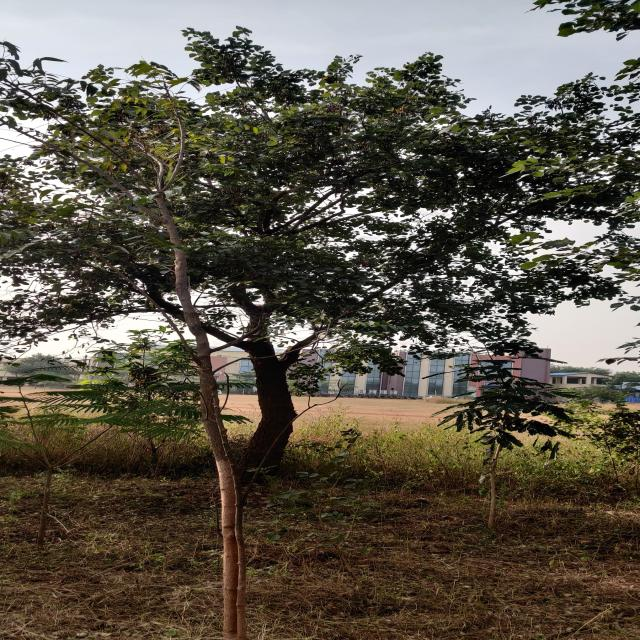Devakanchan tree: (49, 51, 558, 346)
Neem Tree: (47, 71, 271, 210)
